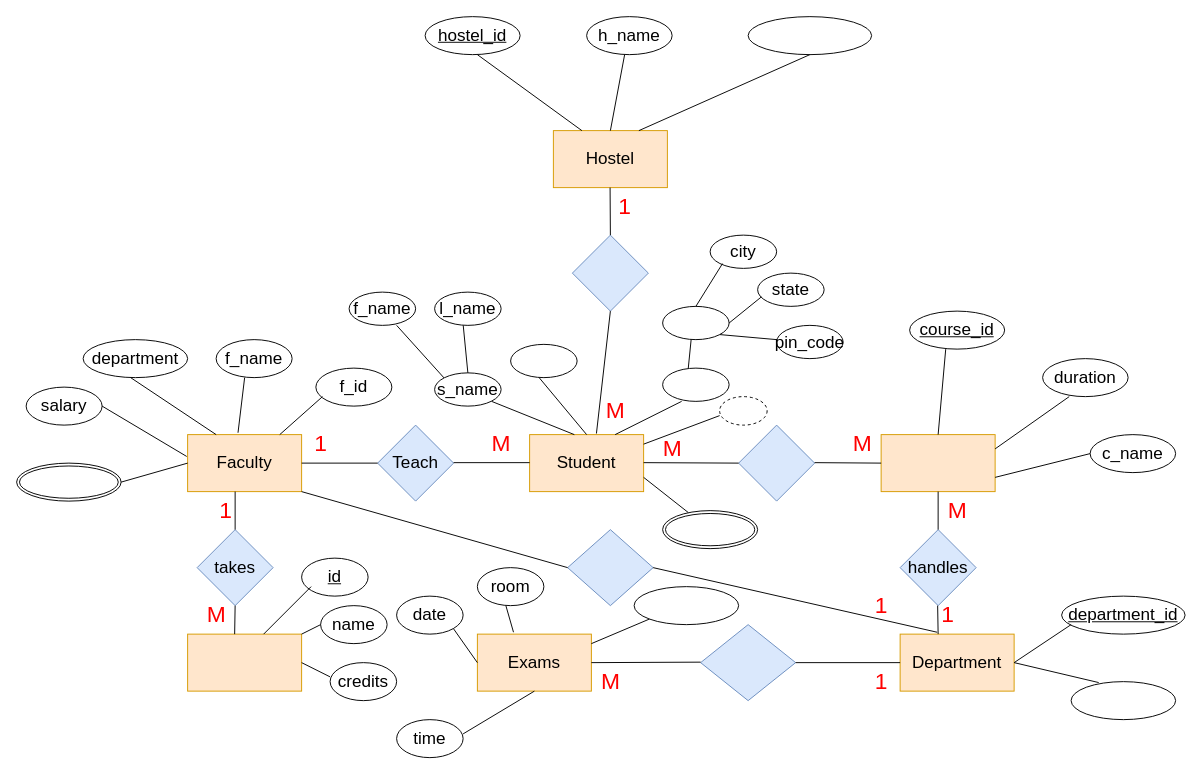
The diagram is 1202 pixels wide and 774 high, and some of its shapes have lost their labels. Here are the shapes that lost their labels. From the top down, the box of each, then its label:
(747, 16, 872, 55): no_of_rooms
(571, 234, 648, 311): living
(662, 305, 729, 340): address
(510, 343, 577, 378): s_id
(662, 367, 729, 401): dob
(719, 396, 767, 425): age
(16, 462, 121, 501): mobile_no
(738, 424, 815, 501): Enrols
(880, 434, 995, 492): Course
(662, 510, 758, 549): Attribute
(567, 529, 653, 606): belongs
(633, 586, 739, 625): exam_code
(187, 633, 302, 691): Subjects
(700, 624, 796, 701): Conducts
(1070, 681, 1176, 720): d_name
